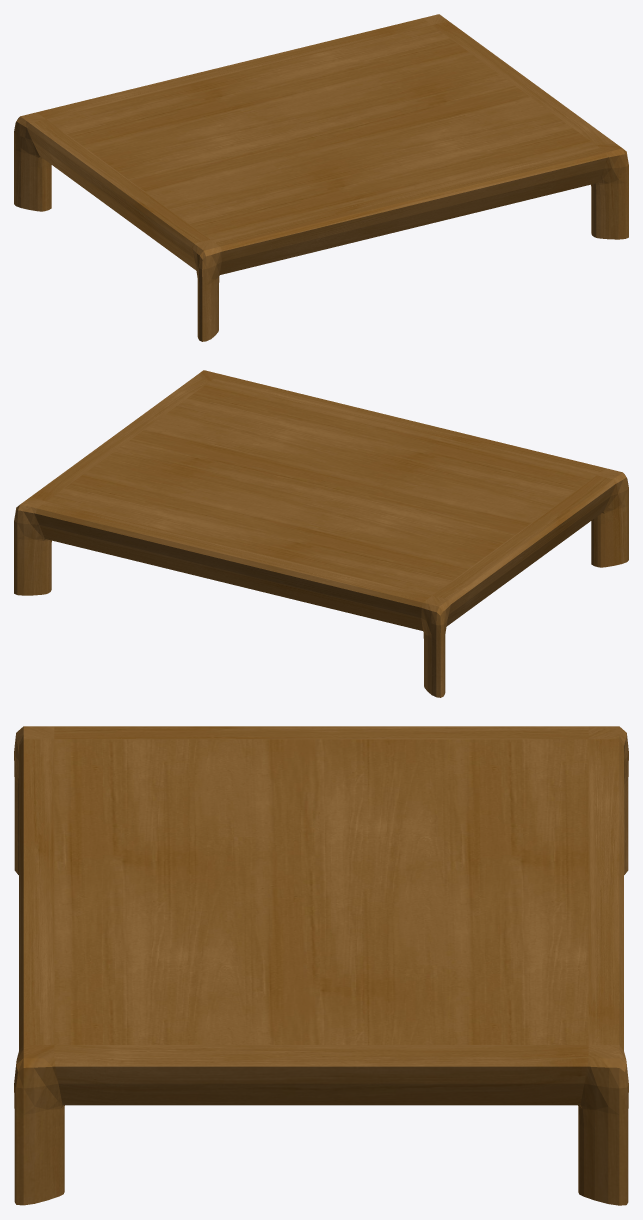
The model's file is ext_tableI.obj.
3 views of the same model, one above another, from view 1: azimuth 30°, elevation 25°; view 2: azimuth 150°, elevation 25°; view 3: azimuth 270°, elevation 25° (orthographic). The views are drawn at different scales.
Parts seen in each view (by area): view 1: mesita_ext2_Cube.012; view 2: mesita_ext2_Cube.012; view 3: mesita_ext2_Cube.012.
Boxes of the visible parts, box(x1,y1,x2,y2) form: mesita_ext2_Cube.012: box(14, 14, 628, 341); mesita_ext2_Cube.012: box(14, 370, 628, 697); mesita_ext2_Cube.012: box(14, 726, 628, 1205).
Bounding box in the file's own units: 8.29 × 1.64 × 6.34.
